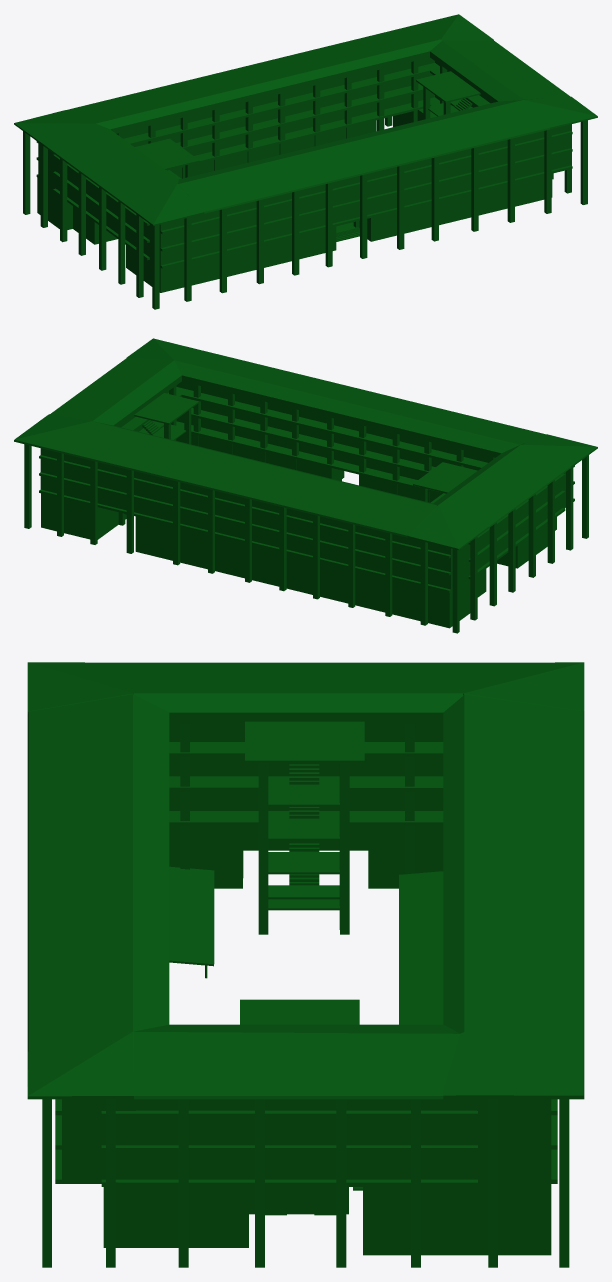
File: MAIN BUILDING.fbx
3 views of the same model, one above another, from view 1: azimuth 30°, elevation 25°; view 2: azimuth 150°, elevation 25°; view 3: azimuth 270°, elevation 25° (orthographic). The views are drawn at different scales.
Parts seen in each view (by area): view 1: Cube.077; view 2: Cube.077; view 3: Cube.077.
Boxes of the visible parts, x1,y1,x2,y2 form: Cube.077: (14, 14, 597, 309); Cube.077: (14, 338, 597, 633); Cube.077: (27, 662, 584, 1267).
Size of the model in its own units: 1909 by 403 by 1035.
